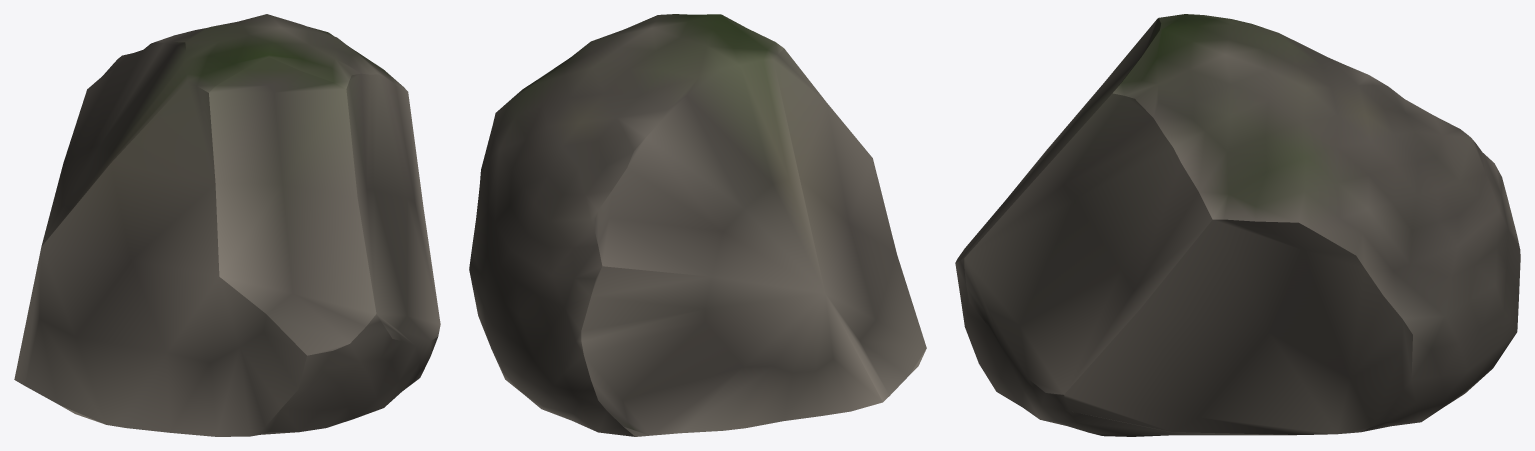
File: boulder_split.glb
The picture shows the model from 3 angles, left to right: view 1: azimuth 30°, elevation 25°; view 2: azimuth 150°, elevation 25°; view 3: azimuth 270°, elevation 25°; orthographic projection. The views are drawn at different scales.
Parts seen in each view (by area): view 1: boulder_split; view 2: boulder_split; view 3: boulder_split.
Part boxes in pixels (x1=…): boulder_split: x1=14, y1=14, x2=440, y2=436; boulder_split: x1=469, y1=14, x2=926, y2=436; boulder_split: x1=955, y1=14, x2=1520, y2=436.
Bounding box in the file's own units: 0.9835 × 0.8085 × 1.16.
